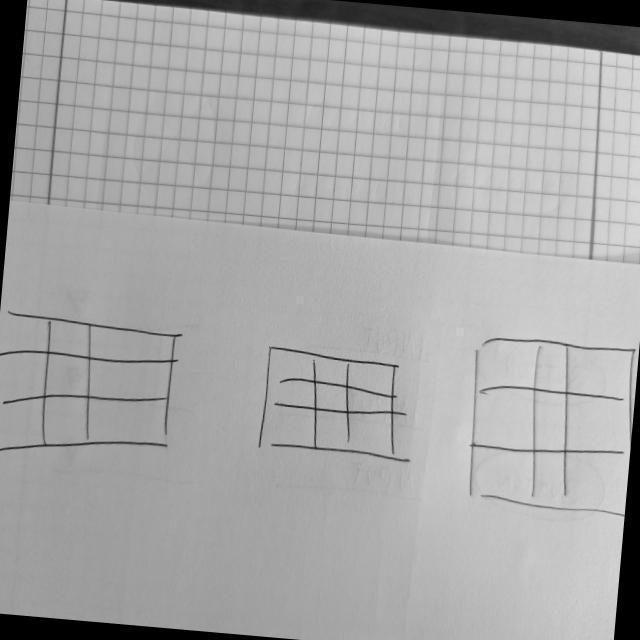table: (461, 330, 640, 524), (1, 302, 182, 473), (256, 343, 408, 465)
